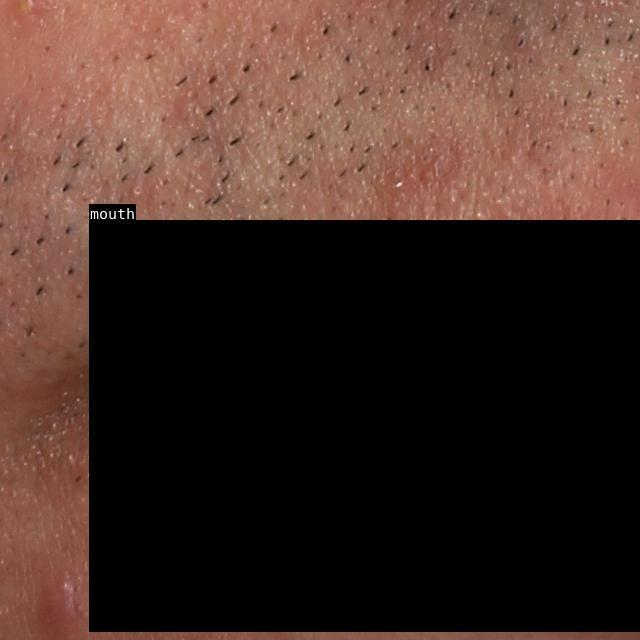papule: (32, 562, 90, 634)
